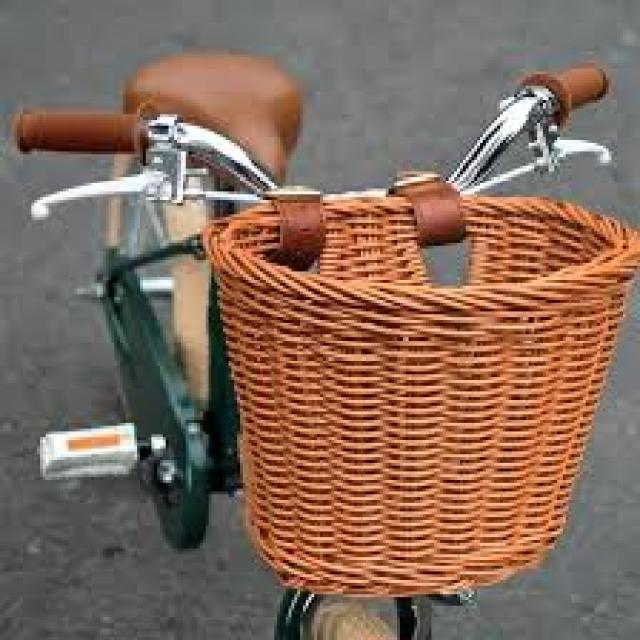basket: (204, 195, 638, 594)
